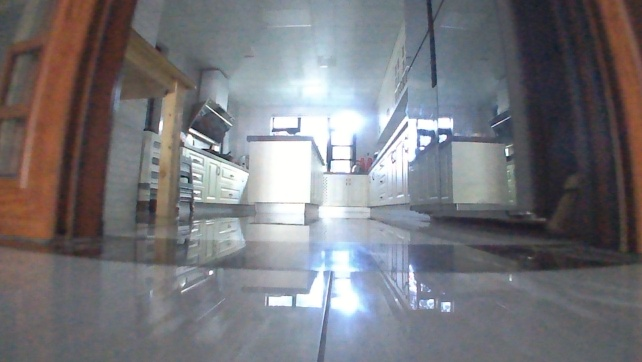cupboard: (320, 115, 409, 220), (179, 139, 254, 216)
refrigerator: (400, 0, 518, 234)
